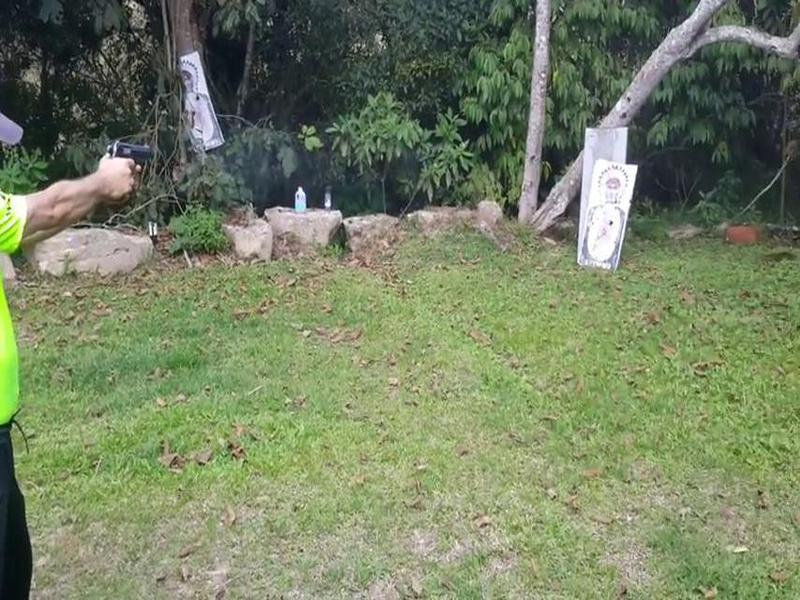Pistola: (100, 136, 163, 183)
